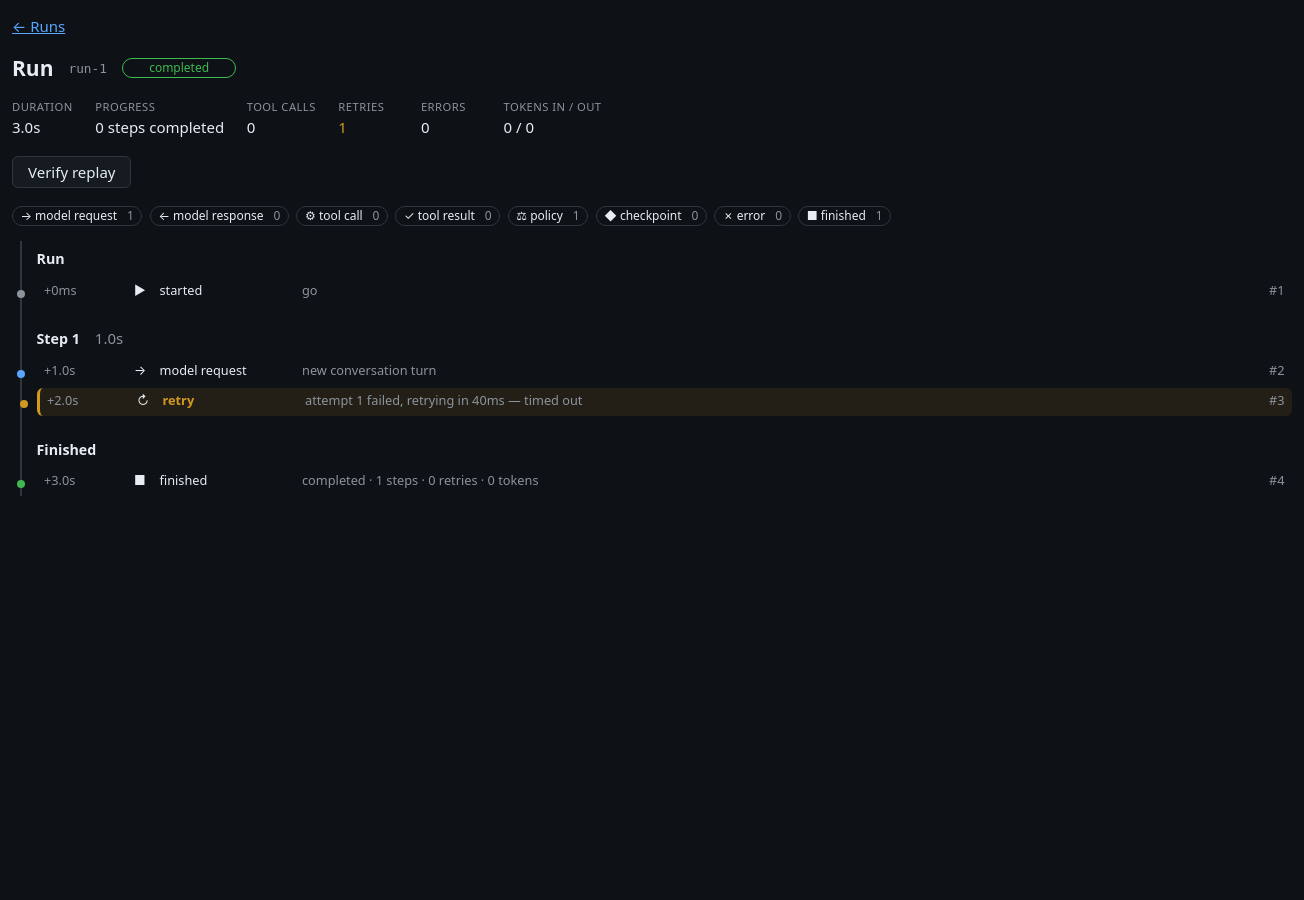
Scenario: RunDetailPage › expands an event to show its pretty-printed payload
This screenshot has width=1304, height=900.
Expected: the element "Step 1" is shown, left=36, top=321, right=1292, bottom=416
Click the button "attempt 1 failed".
click(178, 400)  # box left=40, top=388, right=1292, bottom=416
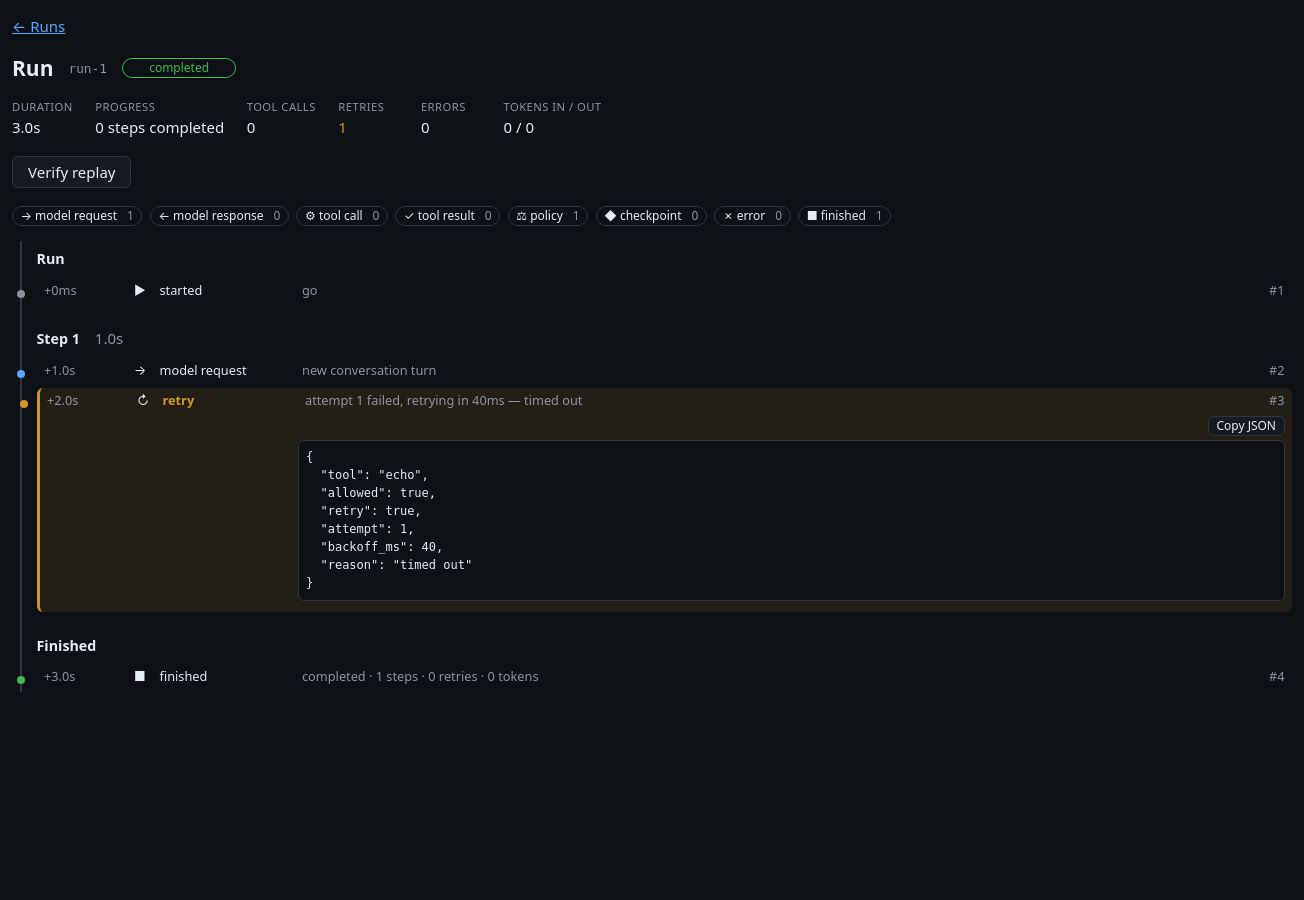
Result: the text "\"backoff_ms\": 40" is shown at left=306, top=450, right=472, bottom=590
